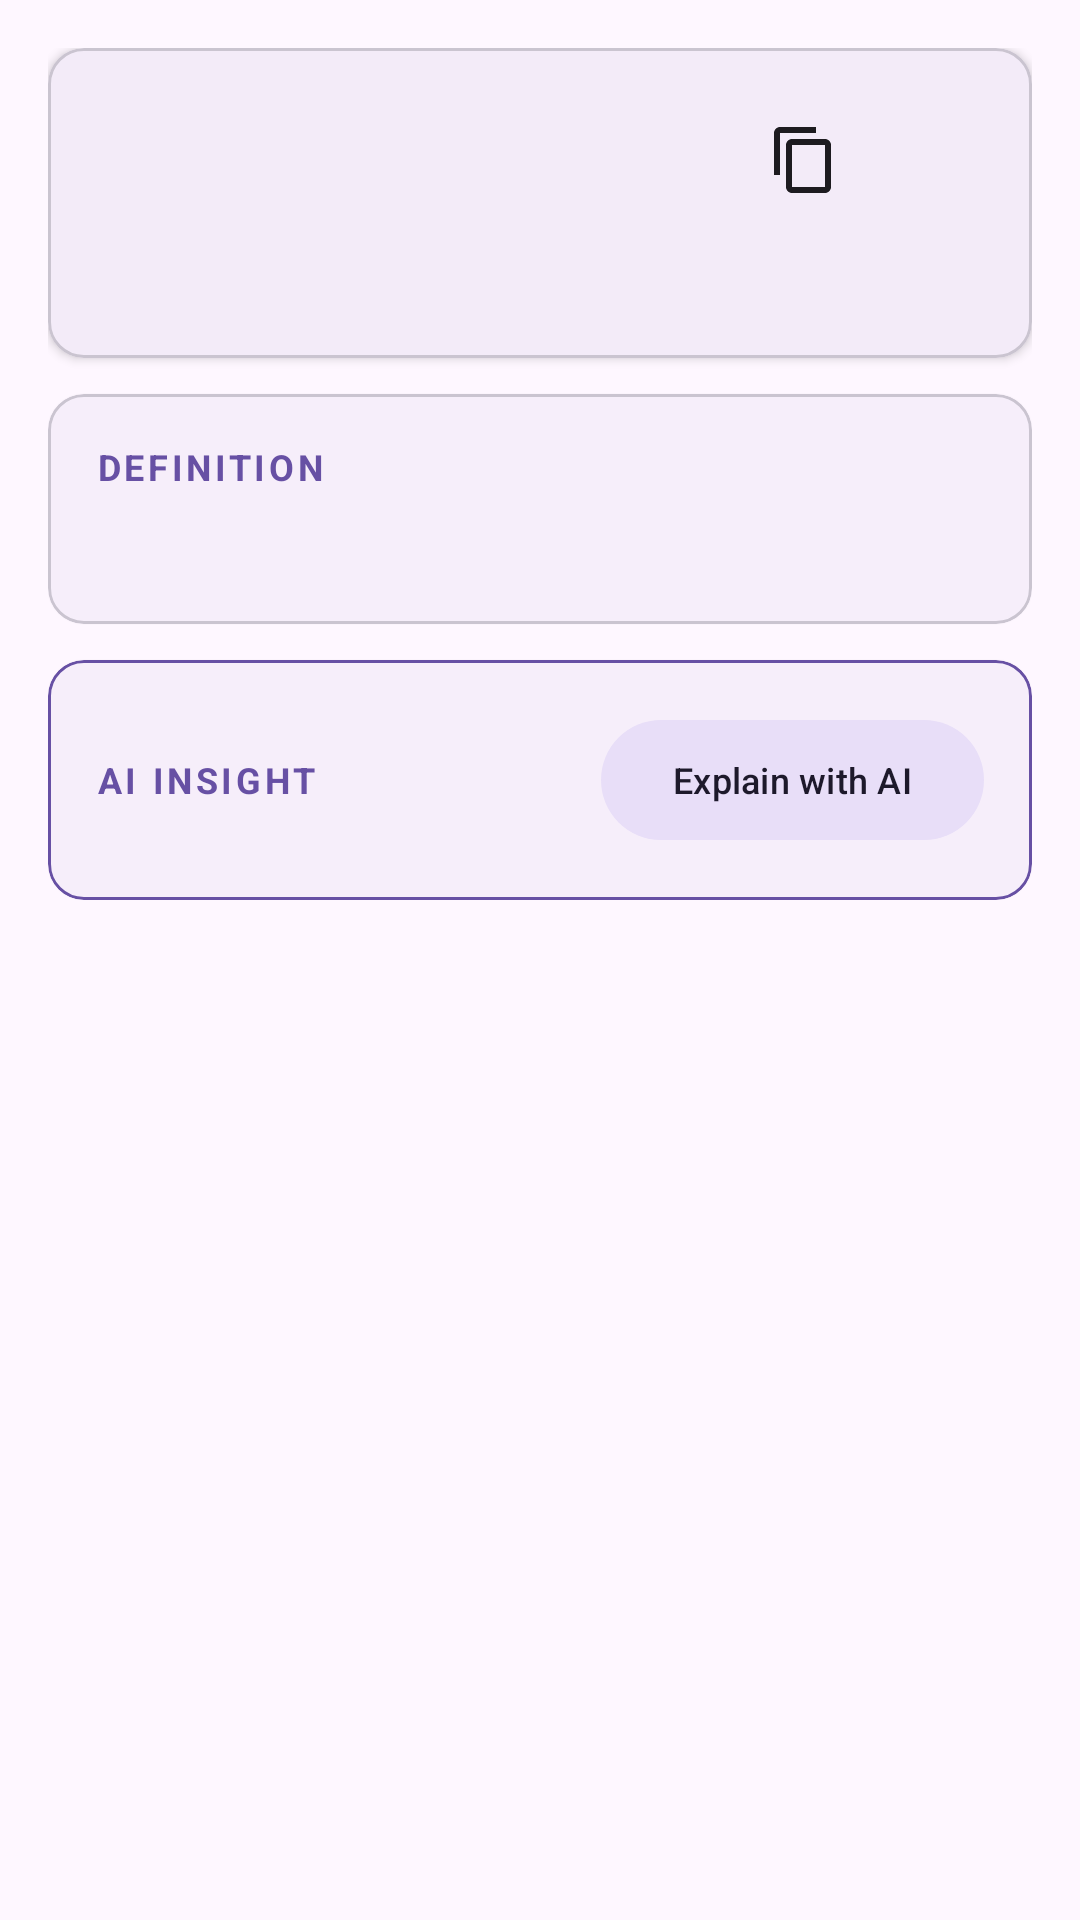

Screen size 1080x1920. Icon name, then its box in pixels as bbox=(x1, y1, x2, y2):
Copy definition: bbox=(774, 127, 831, 193)
